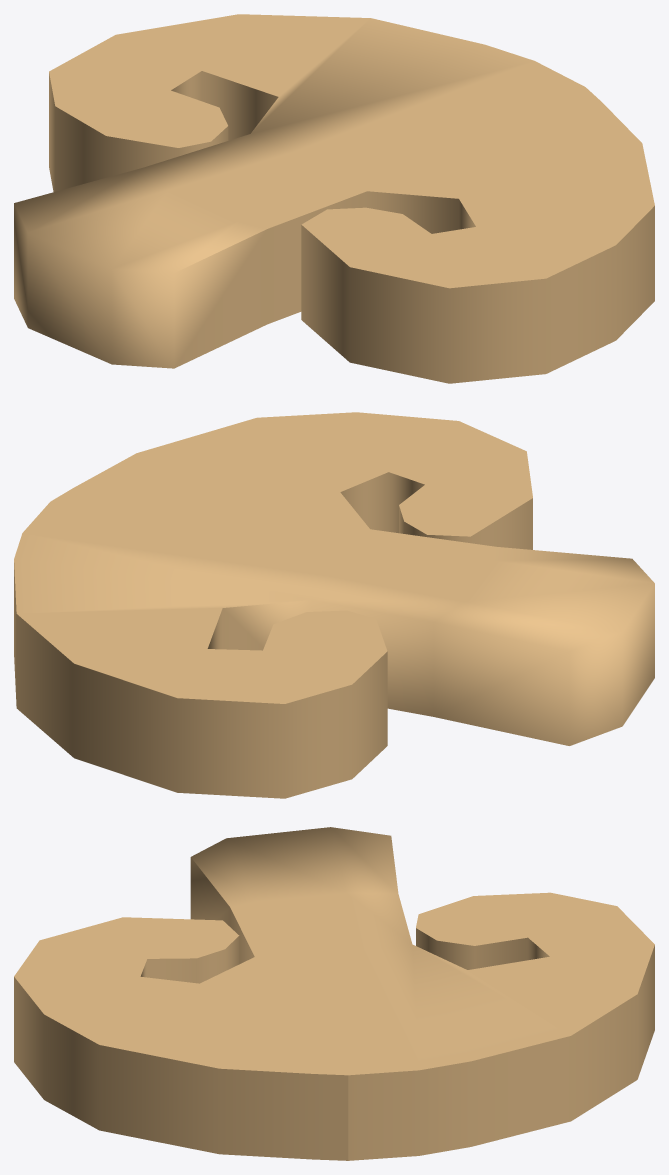
The model's file is 9_mushroom.fbx.
3 renders of one model, top to bottom at view 1: azimuth 30°, elevation 25°; view 2: azimuth 150°, elevation 25°; view 3: azimuth 270°, elevation 25°, orthographic. The views are drawn at different scales.
Parts seen in each view (by area): view 1: mushroom; view 2: mushroom; view 3: mushroom.
Boxes of the visible parts, box(x1,y1,x2,y2) form: mushroom: box(14, 14, 654, 383); mushroom: box(14, 412, 654, 798); mushroom: box(14, 827, 654, 1160).
Size of the model in its own units: 44.43 by 7.14 by 48.48.
